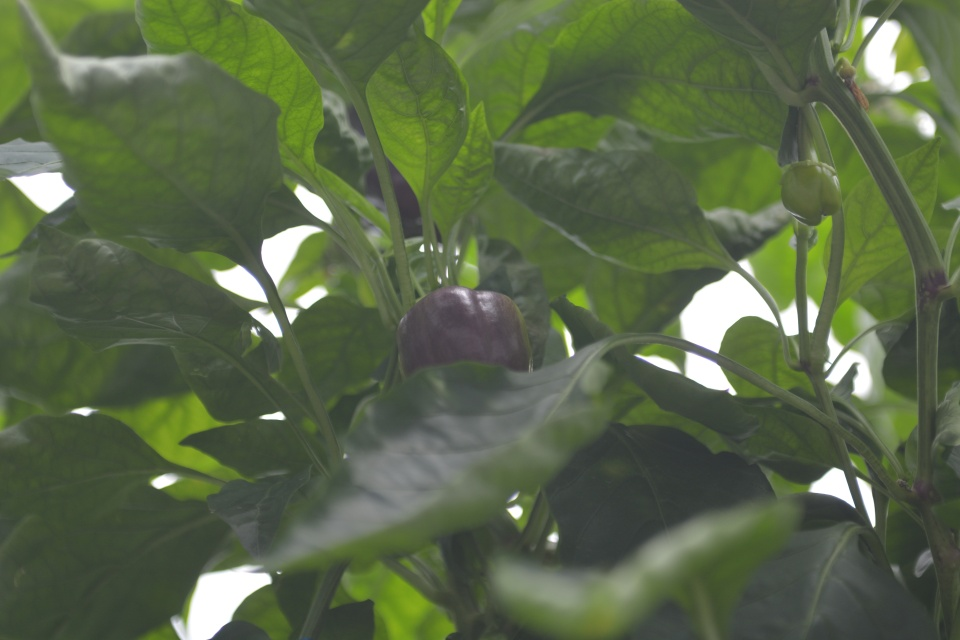fruit: (393, 284, 535, 389)
immature: (777, 158, 845, 229)
